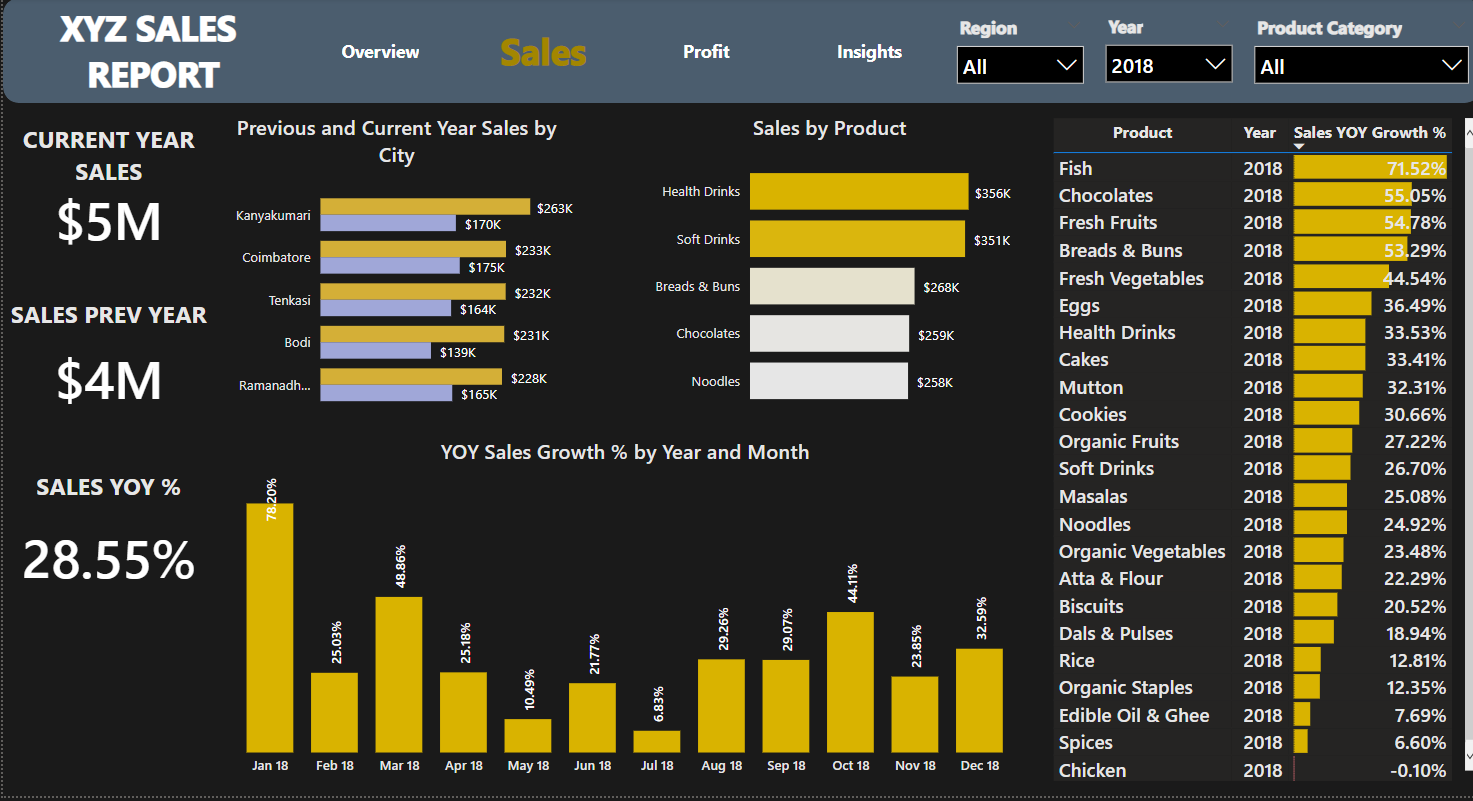

The dashboard page shown, as its layout file describes it:
{"tool":"powerbi","page":{"name":"Sales","canvas":[1350,730],"ordinal":1},"visuals":[{"type":"clusteredColumnChart","title":"YOY Sales Growth % by Year and Month","fields":{"Y":["_Measures.Sales YOY Growth %"],"Category":["Calendar Table.Year Month"]},"box":[193.8,401.2,748.8,318.8],"z":0},{"type":"card","title":"CURRENT YEAR SALES","fields":{"Values":["_Measures.Sales CY"]},"box":[0,114.8,193.4,116.4],"z":1000},{"type":"tableEx","fields":{"Values":["Dim_Category.Sub Category","Calendar Table.Year","_Measures.Sales YOY"]},"box":[953.8,105,396.2,615],"z":2000},{"type":"clusteredBarChart","title":"Previous and Current Year Sales by City","fields":{"Category":["Dim_Location.City"],"Y":["_Measures.Sales CY","_Measures.Sales PY"]},"box":[193.8,105,331.2,285],"z":3000},{"type":"shape","box":[0,0,1350,96.2],"z":4000},{"type":"textbox","box":[0,0,275,96.2],"z":5000},{"type":"slicer","fields":{"Values":["Dim_Category.Category"]},"box":[1133.8,10,216.2,77.5],"z":6000},{"type":"slicer","fields":{"Values":["Calendar Table.Year"]},"box":[997.5,8.8,136.2,77.5],"z":7000},{"type":"clusteredBarChart","title":"Sales by Product","fields":{"Category":["Dim_Category.Sub Category"],"Y":["_Measures.Total Sales"]},"box":[585,105,341.2,285],"z":8000},{"type":"card","title":"SALES PREV YEAR","fields":{"Values":["_Measures.Sales PY"]},"box":[0,273.8,193.4,116.4],"z":9000},{"type":"card","title":"SALES YOY %","fields":{"Values":["_Measures.Sales YOY Growth %"]},"box":[0,431.1,193.4,129.5],"z":10000},{"type":"slicer","fields":{"Values":["Dim_Location.Region"]},"box":[861.2,10,136.2,77.5],"z":11000},{"type":"pageNavigator","box":[275,0,586.2,96.2],"z":12000}]}

Visuals, with their boxes in screenshot pixels (x1, y1, x2, y2), scaled from the page's 1350x730 canvas onto the 1473x801 screenshot:
"YOY Sales Growth % by Year and Month" clusteredColumnChart: Rect(211, 440, 1028, 790)
"CURRENT YEAR SALES" card: Rect(0, 126, 211, 254)
tableEx - Dim_Category.Sub Category x Calendar Table.Year: Rect(1041, 115, 1472, 790)
"Previous and Current Year Sales by City" clusteredBarChart: Rect(211, 115, 573, 428)
shape: Rect(0, 0, 1472, 106)
textbox: Rect(0, 0, 300, 106)
slicer - Dim_Category.Category: Rect(1237, 11, 1472, 96)
slicer - Calendar Table.Year: Rect(1088, 10, 1237, 95)
"Sales by Product" clusteredBarChart: Rect(638, 115, 1011, 428)
"SALES PREV YEAR" card: Rect(0, 300, 211, 428)
"SALES YOY %" card: Rect(0, 473, 211, 615)
slicer - Dim_Location.Region: Rect(940, 11, 1088, 96)
pageNavigator: Rect(300, 0, 940, 106)
